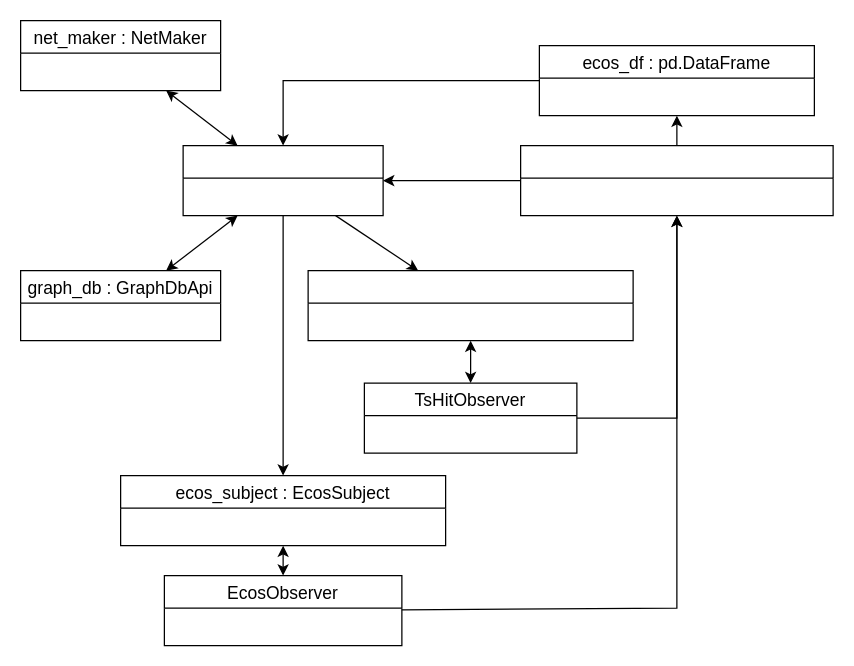
Image size: 854x666. Some labels were removed from this diagram. Each missing label, with the centre of its shape:
command_queue : Queue[Command]: point (676, 180)
gt_command : GtCommandSubject: point (470, 305)
map_editor : MapEditor: point (282, 180)
